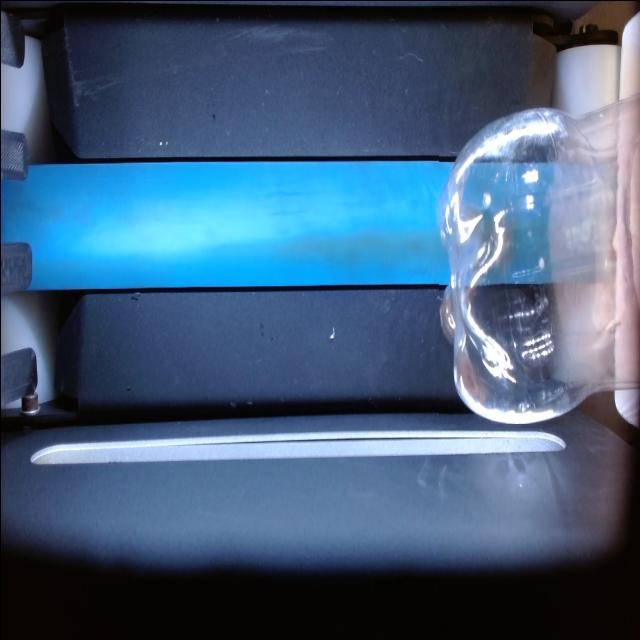bottle: (438, 95, 640, 423)
